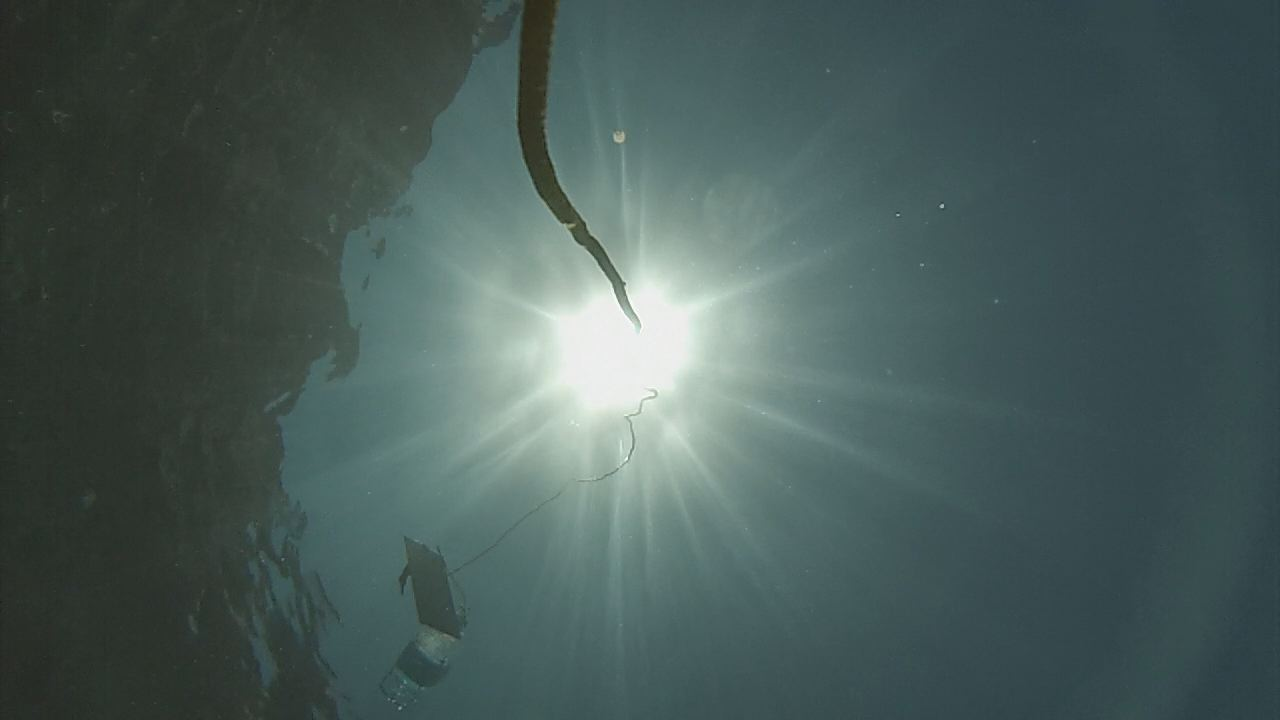pelagia: (607, 123, 628, 148)
